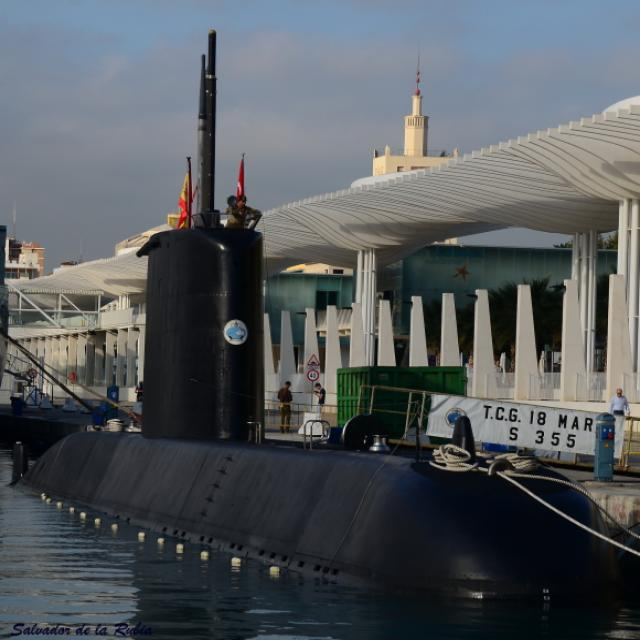submarine: (1, 22, 640, 590)
